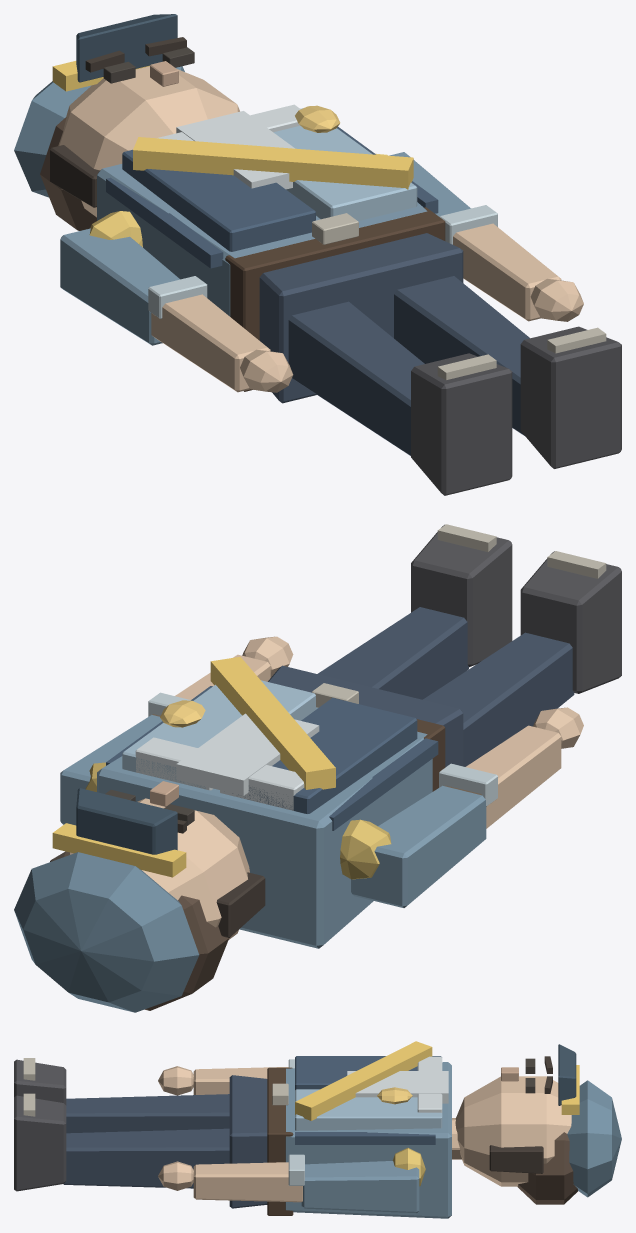
File: RovianMale.fbx
3 views of the same model, one above another, from view 1: azimuth 30°, elevation 25°; view 2: azimuth 150°, elevation 25°; view 3: azimuth 270°, elevation 25° (orthographic). The views are drawn at different scales.
Parts seen in each view (by area): view 1: Pelvis, Leg_Left, Boot_Left, Boot_Right, Head, Jacket_LeftPanel, Leg_Right, RouteStripe_Diagonal, Arm_Upper_Left, Jacket_Body, Belt, Arm_Forearm_Left (+20 smaller); view 2: WorkCap_Crown, Jacket_Body, Leg_Left, Arm_Upper_Left, Boot_Left, Boot_Right, Leg_Right, Jacket_LeftPanel, RouteStripe_Diagonal, Head, Shirt_FrontVisible, WorkCap_Brim (+20 smaller); view 3: Head, Leg_Right, Jacket_Body, Leg_Left, Arm_Upper_Right, Boot_Right, WorkCap_Crown, Arm_Forearm_Right, Jacket_RightPanel, Pelvis, RouteStripe_Diagonal, Hair_Cap (+21 smaller).
Part boxes in pixels (x1,y1,x2,y2): Pelvis: [259, 233, 463, 403]; Leg_Left: [288, 301, 424, 455]; Boot_Left: [411, 353, 512, 495]; Boot_Right: [520, 326, 621, 468]; Head: [58, 66, 239, 217]; Jacket_LeftPanel: [122, 149, 315, 251]; Leg_Right: [394, 276, 529, 435]; RouteStripe_Diagonal: [133, 137, 413, 189]; Arm_Upper_Left: [60, 228, 179, 345]; Jacket_Body: [97, 164, 427, 316]; Belt: [225, 207, 445, 391]; Arm_Forearm_Left: [151, 294, 270, 392]; WorkCap_Crown: [14, 852, 199, 1012]; Jacket_Body: [97, 707, 432, 948]; Leg_Left: [423, 632, 574, 766]; Arm_Upper_Left: [351, 785, 486, 907]; Boot_Left: [520, 551, 621, 693]; Boot_Right: [411, 524, 512, 667]; Leg_Right: [317, 607, 468, 699]; Jacket_LeftPanel: [232, 697, 417, 813]; RouteStripe_Diagonal: [210, 656, 335, 789]; Head: [64, 798, 249, 939]; Shirt_FrontVisible: [176, 713, 319, 795]; WorkCap_Brim: [76, 788, 177, 854]; Head: [455, 1076, 571, 1186]; Leg_Right: [63, 1128, 229, 1188]; Jacket_Body: [285, 1062, 451, 1218]; Leg_Left: [66, 1094, 229, 1133]; Arm_Upper_Right: [301, 1161, 419, 1213]; Boot_Right: [14, 1095, 66, 1191]; WorkCap_Crown: [567, 1080, 621, 1197]; Arm_Forearm_Right: [193, 1162, 302, 1202]; Jacket_RightPanel: [295, 1089, 442, 1130]; Pelvis: [229, 1075, 267, 1208]; RouteStripe_Diagonal: [295, 1041, 432, 1120]; Hair_Cap: [517, 1132, 577, 1204].
Size of the model in its own units: 82.44 by 45.91 by 186.
